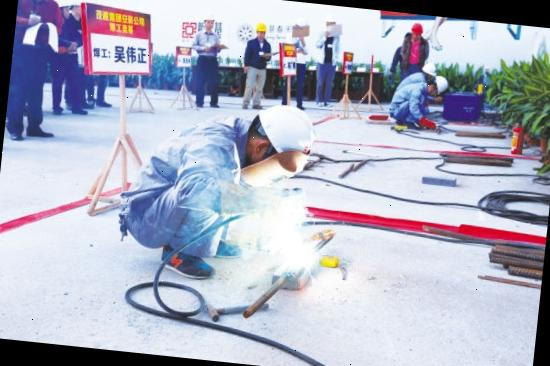helmet: (250, 99, 321, 171), (432, 74, 450, 94), (319, 255, 342, 270), (422, 61, 439, 76), (410, 23, 426, 36), (253, 20, 269, 32)
wear: (122, 120, 237, 240), (394, 82, 423, 118), (245, 38, 272, 70), (400, 71, 424, 86)
